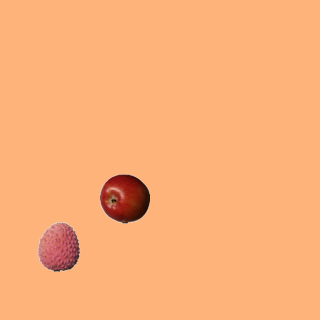Apple Braeburn: (99, 173, 149, 223)
Lychee: (33, 221, 83, 271)
